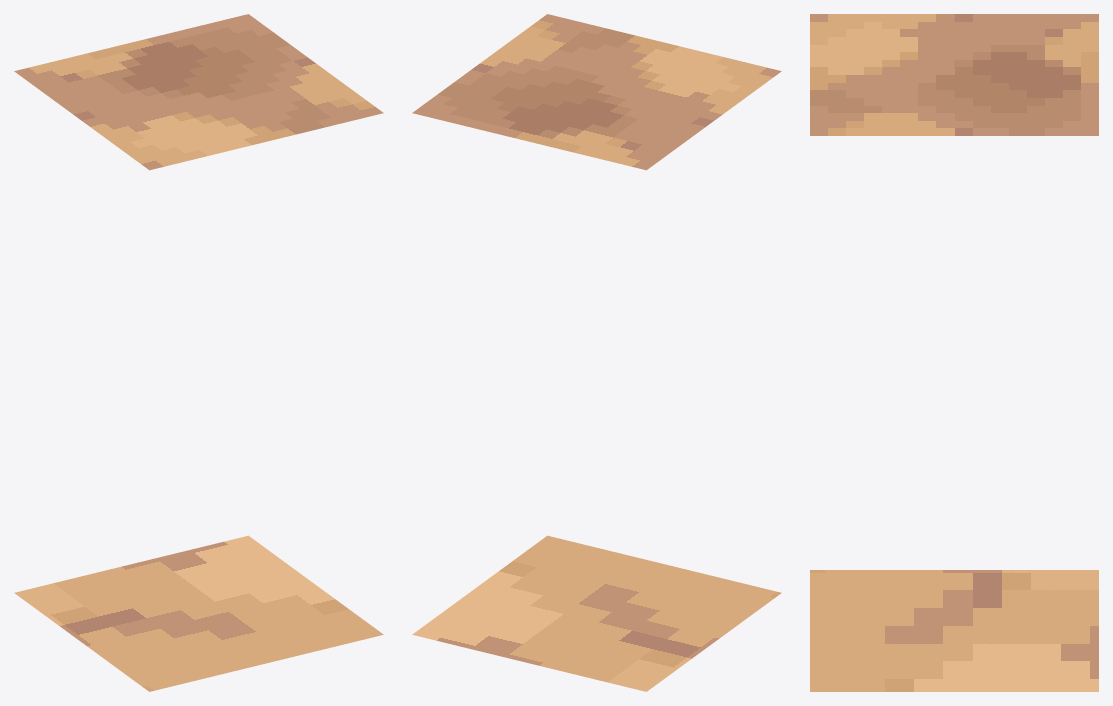
3 renders of one model, left to right at view 1: azimuth 30°, elevation 25°; view 2: azimuth 150°, elevation 25°; view 3: azimuth 270°, elevation 25°, orthographic. The views are drawn at different scales.
Bounding box in the file's own units: 1 × 2.12 × 1.
Materials: 1 (1 with a texture image).
